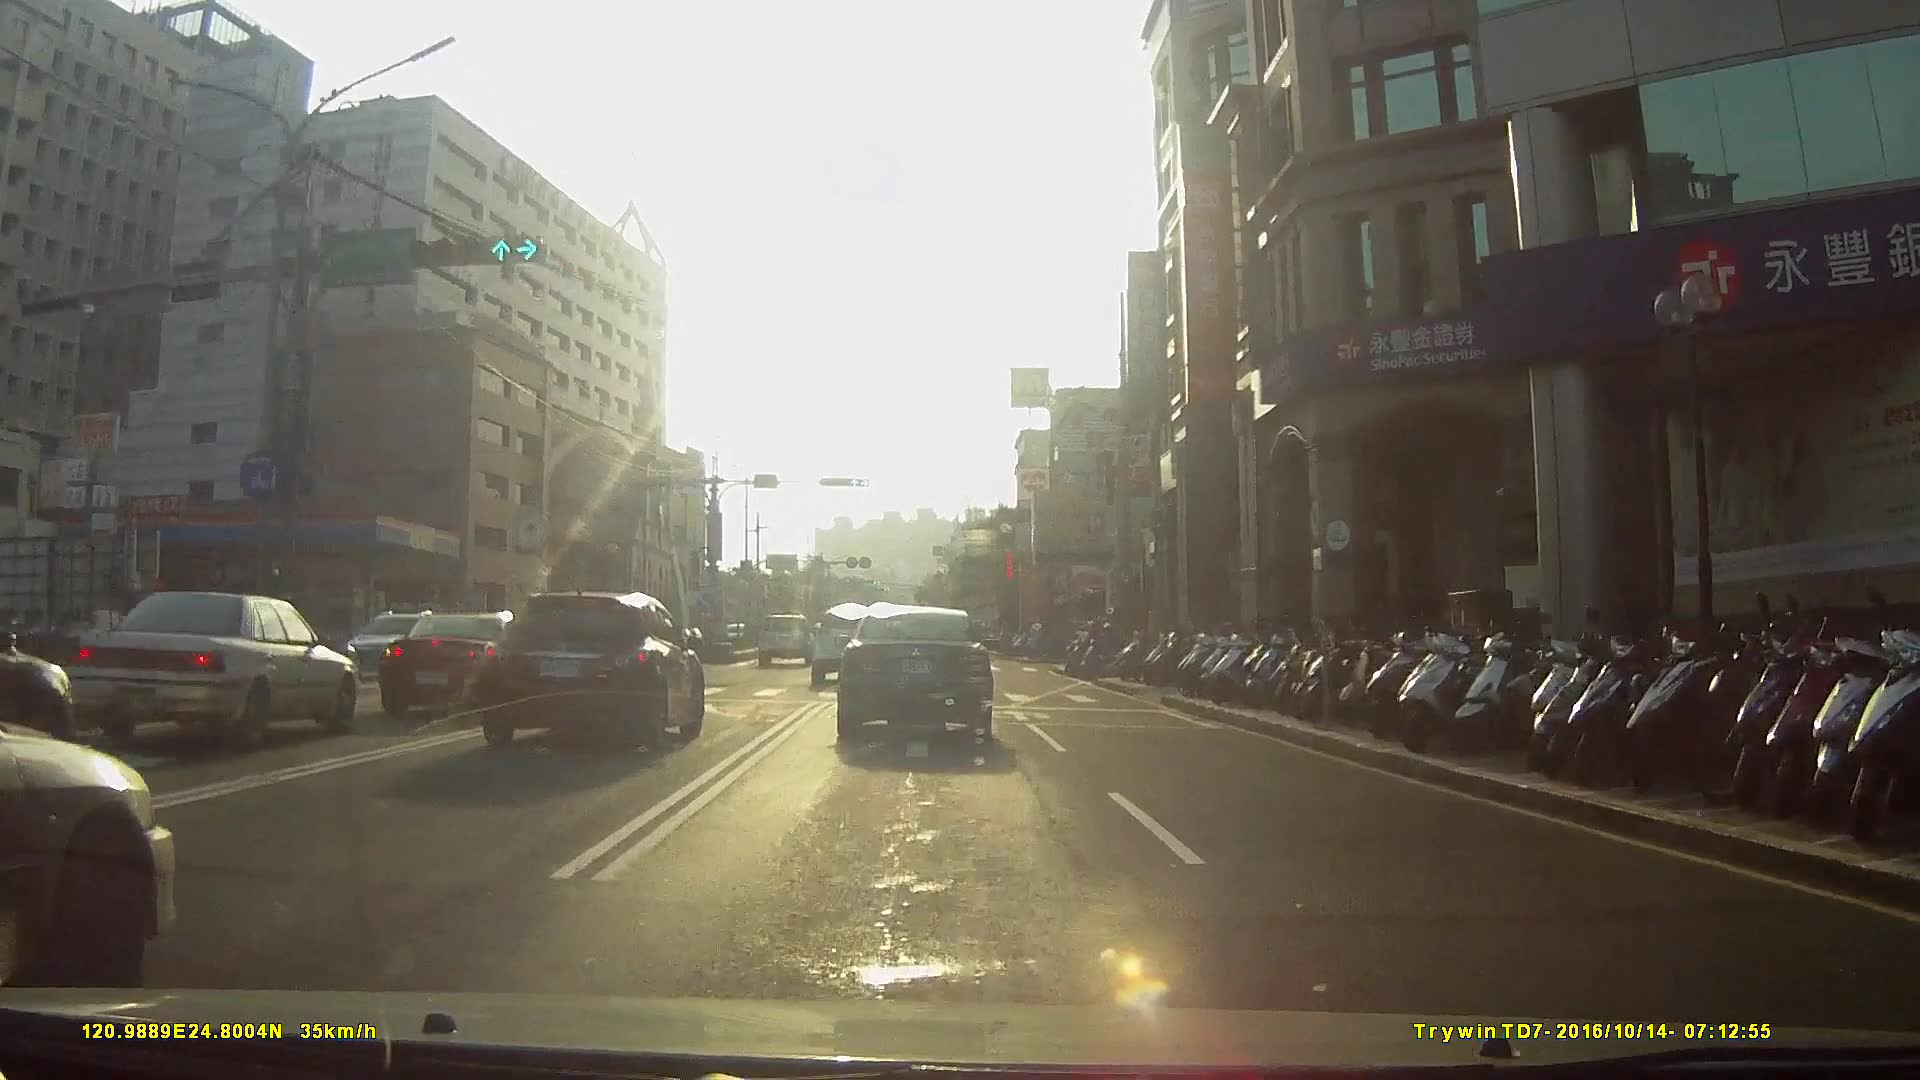rider: (1079, 621, 1142, 678)
vehicle: (68, 585, 364, 751), (466, 582, 717, 757), (362, 605, 564, 728), (833, 604, 1004, 747), (330, 607, 463, 681), (807, 604, 886, 688), (758, 611, 817, 666)
